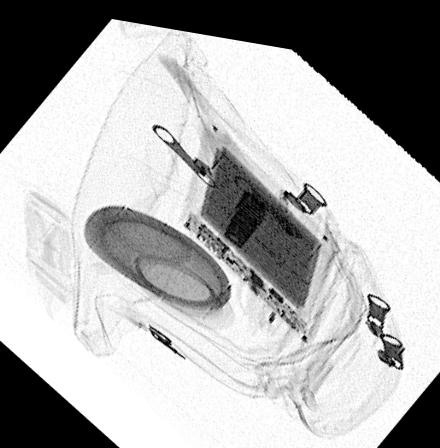Powerbank: (176, 112, 341, 335)
